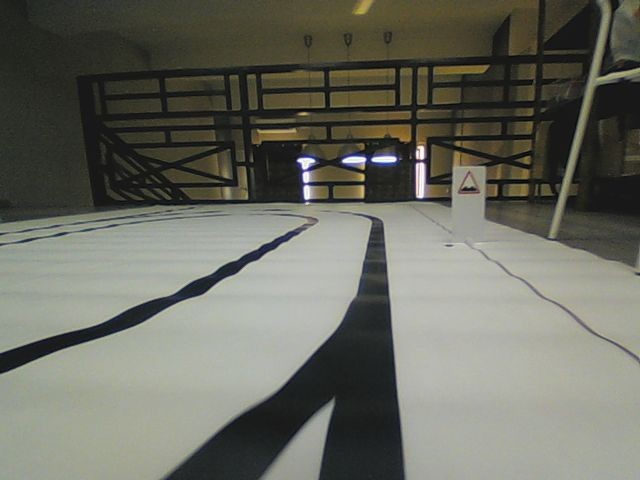Nerov: (457, 169, 481, 196)
